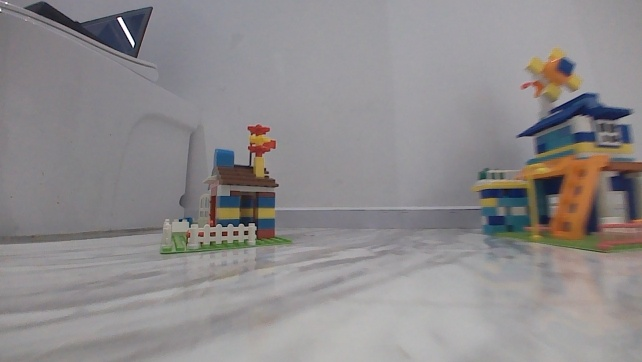plastic_toy: (470, 47, 642, 257), (157, 123, 293, 256)
toilet: (0, 0, 163, 236)
